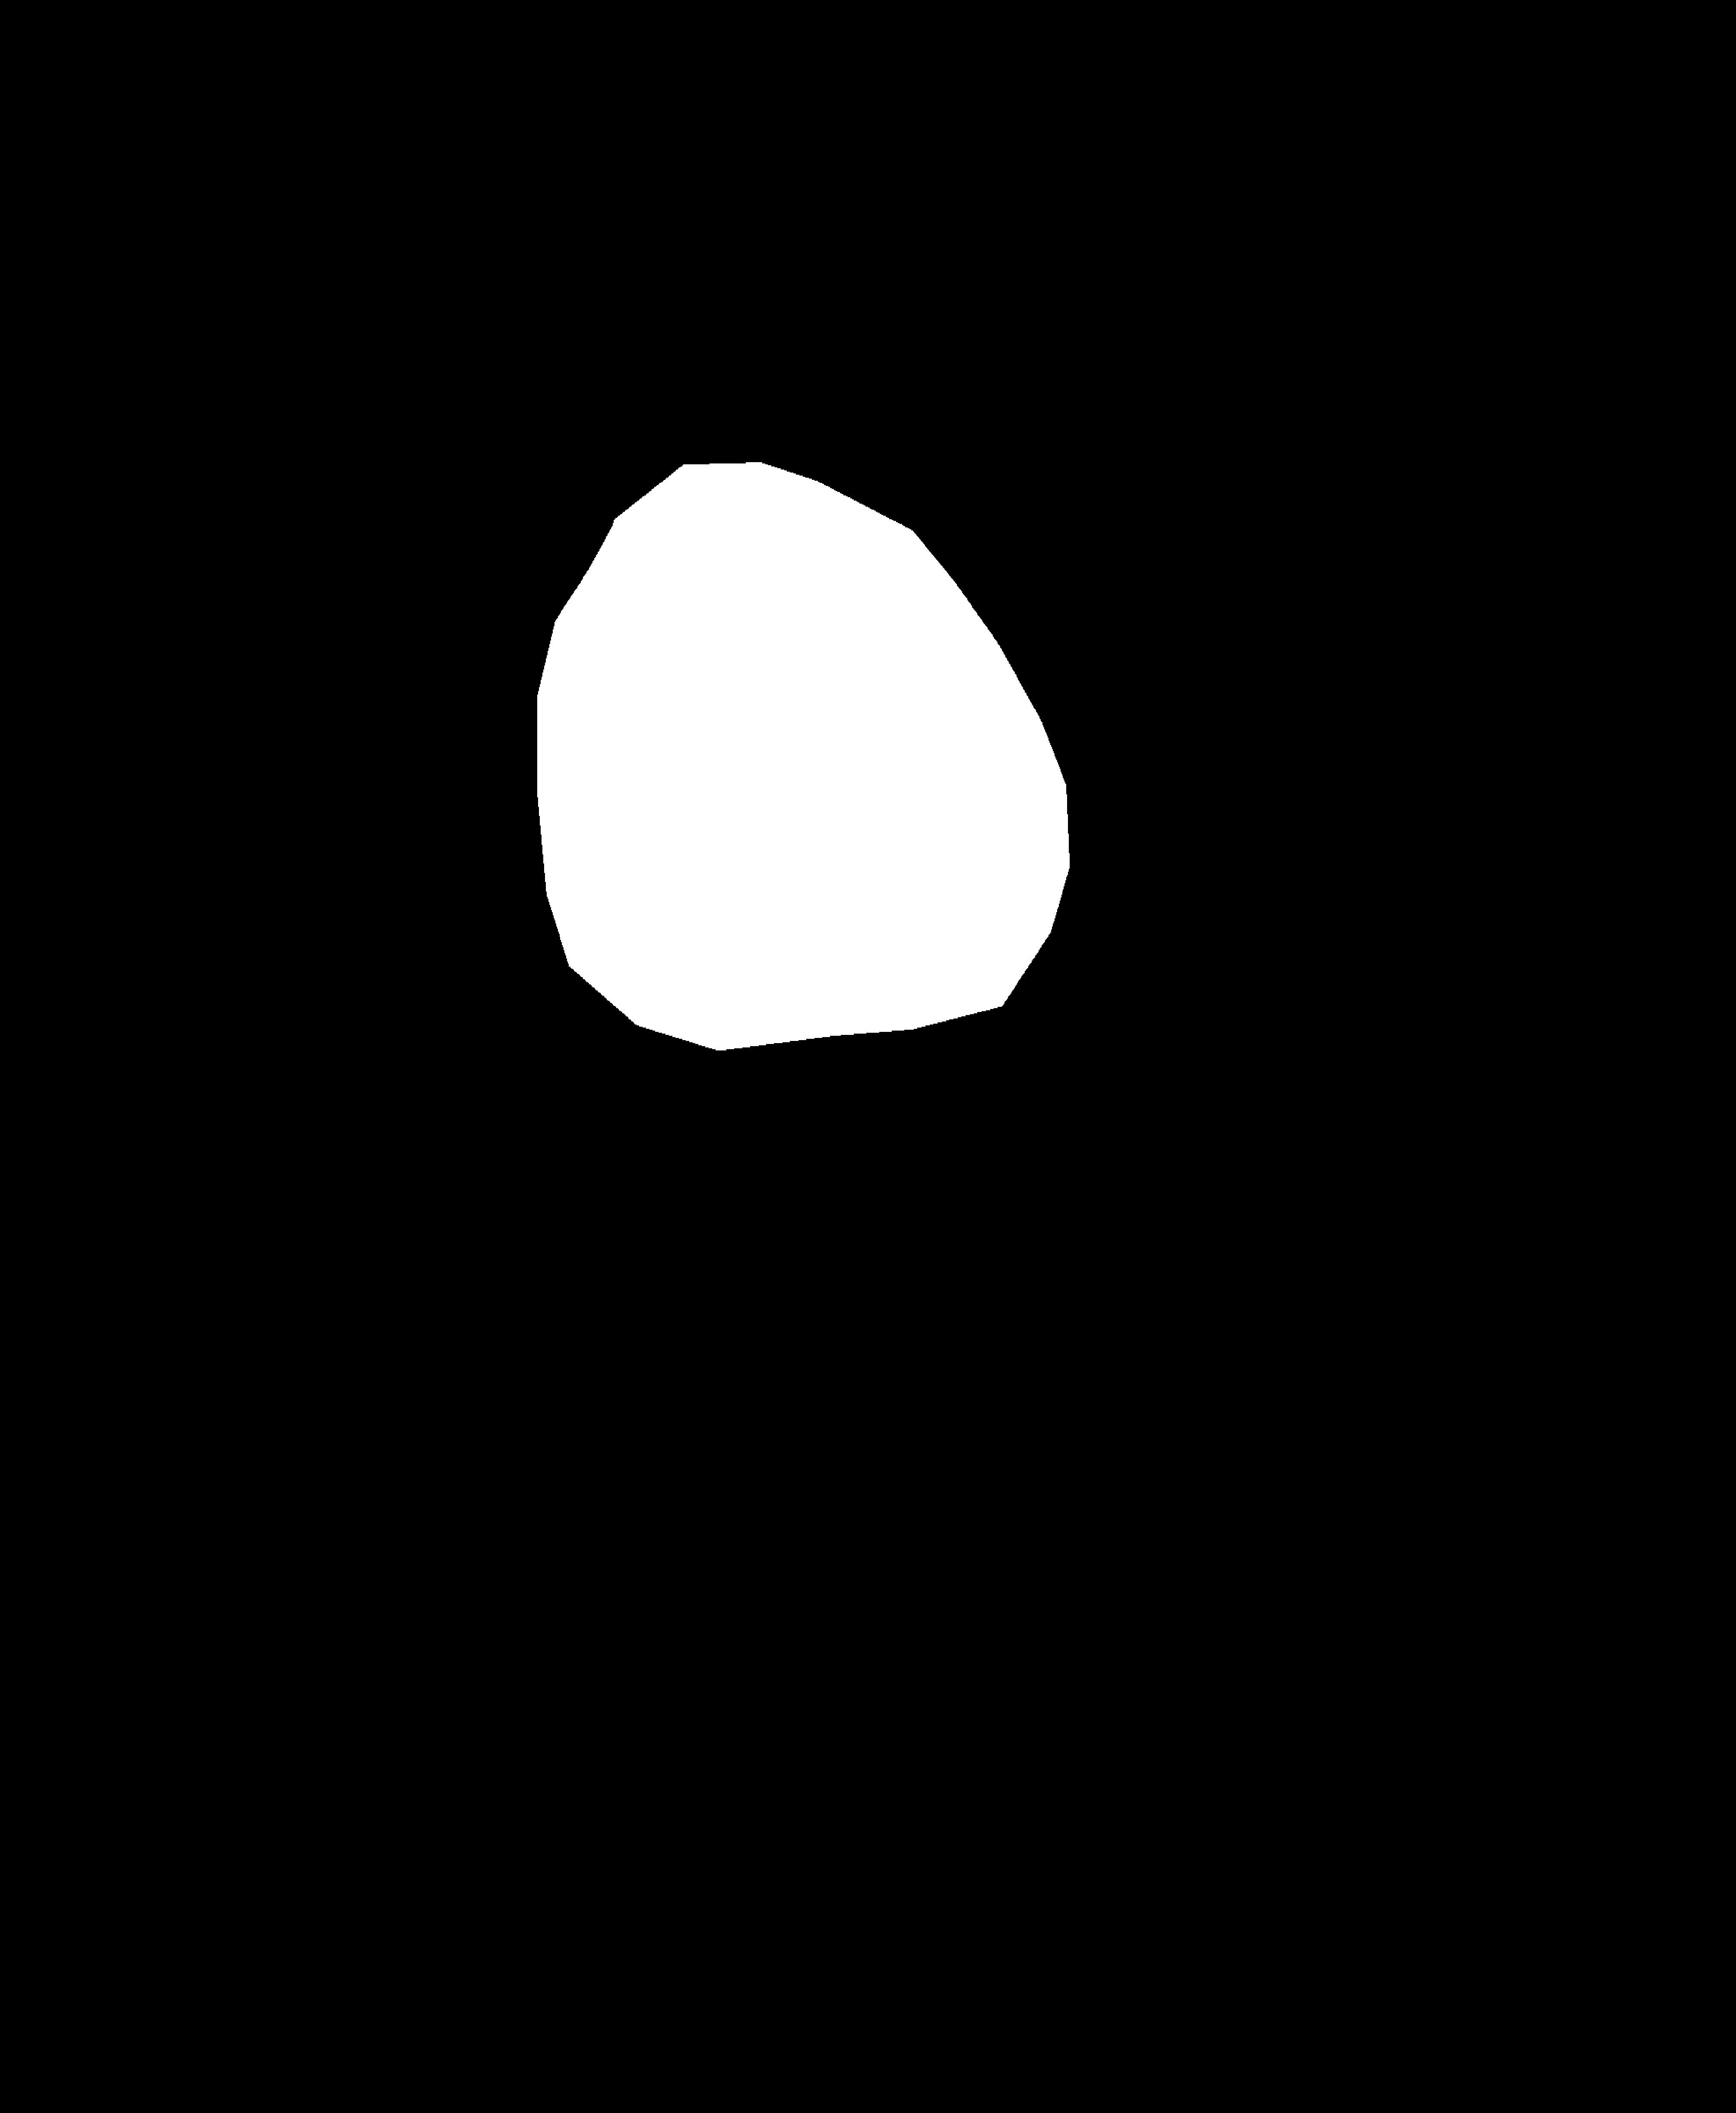heart: (530, 632, 1223, 1013)
left_lung: (212, 86, 678, 1011)
right_lung: (850, 86, 1260, 967)
